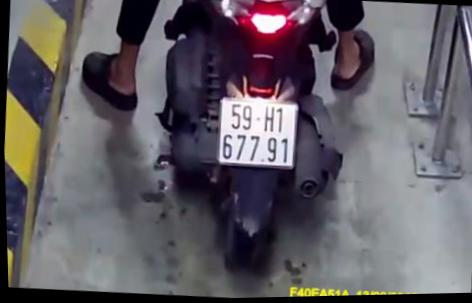LP: (215, 96, 298, 172)
